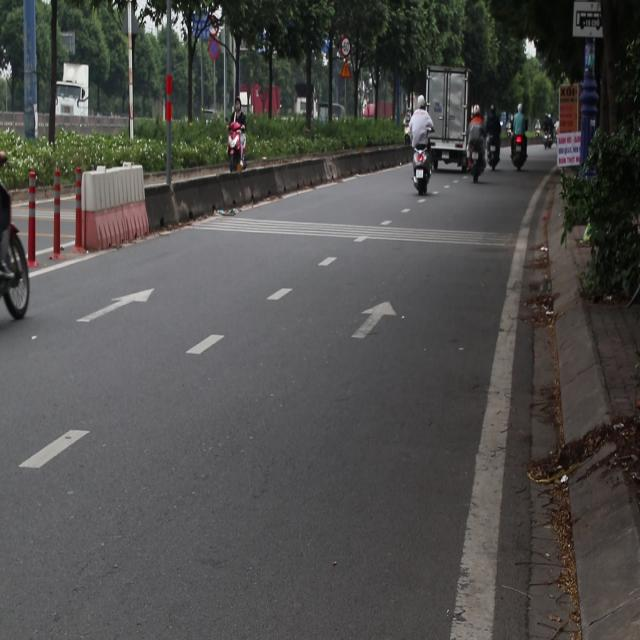motorbike: (0, 162, 31, 324), (490, 127, 530, 177), (224, 122, 255, 178), (411, 138, 437, 196), (509, 106, 530, 172), (462, 126, 483, 183), (484, 122, 498, 170), (543, 121, 549, 150)
truck: (423, 66, 478, 170), (50, 49, 124, 126)
